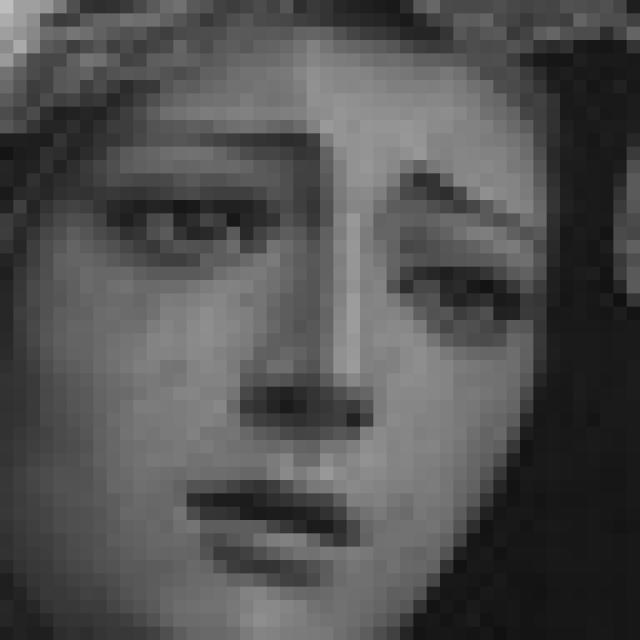sad: (79, 109, 546, 581)
